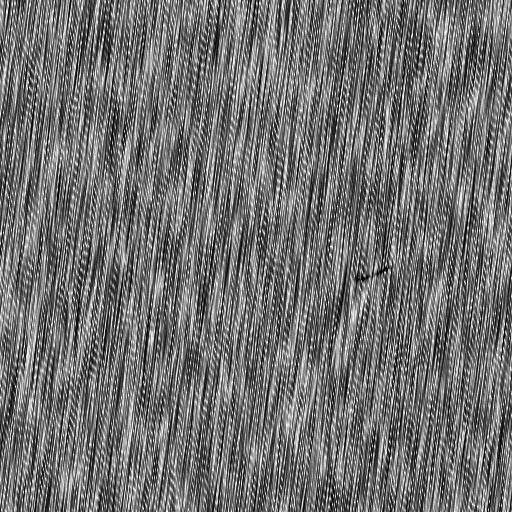DefectTypeC: (357, 263, 394, 282)
